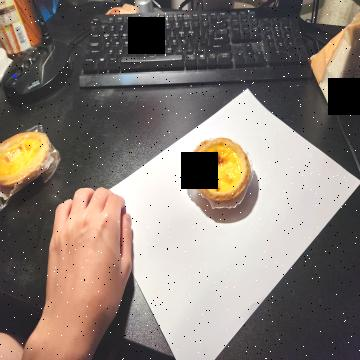EggTart: (190, 137, 250, 204)
